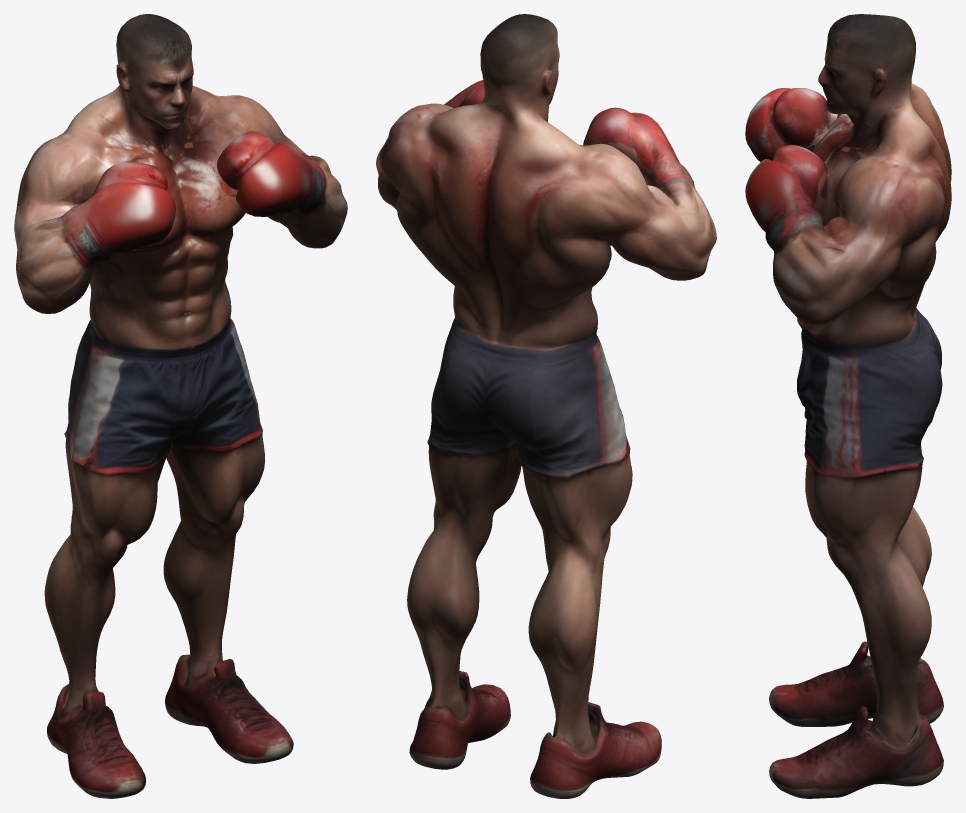
File: MMA.glb
3 views of the same model, side by side, from view 1: azimuth 30°, elevation 25°; view 2: azimuth 150°, elevation 25°; view 3: azimuth 270°, elevation 25° (orthographic). The views are drawn at different scales.
Bounding box in the file's own units: 0.915 × 2 × 0.5086.
1 material, 1 textured.
